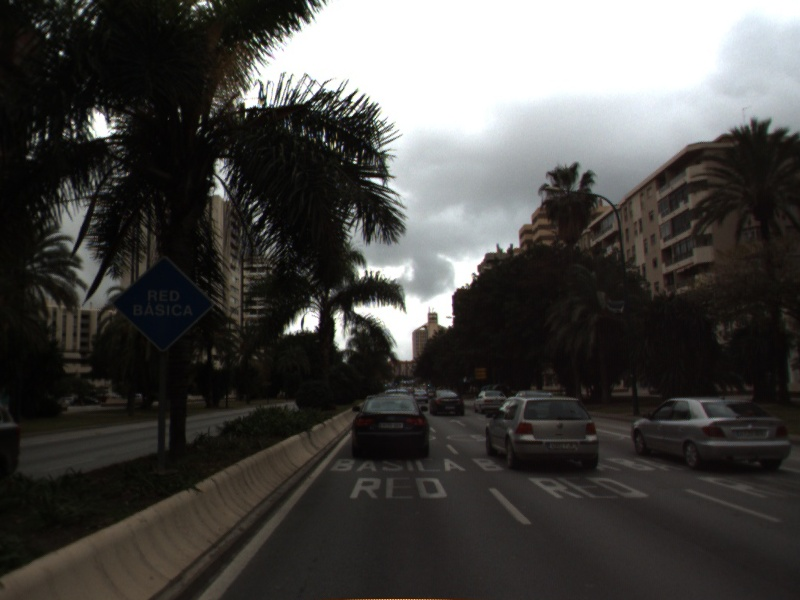STRAIGHT: (447, 417, 469, 429)
